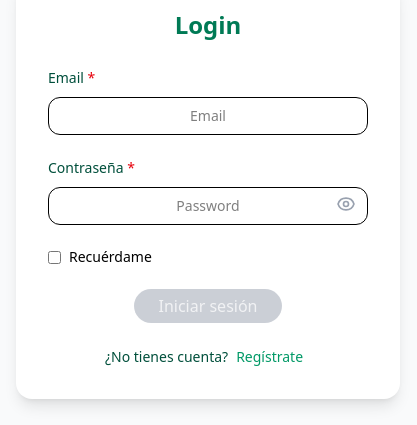
it: LoginPage with Redux › Form validation › enables submit button when both email and password are filled
The image size is (417, 425).
Type "test@example.com" into the field labelled "Email *" at (208, 116), box [48,97,368,135]
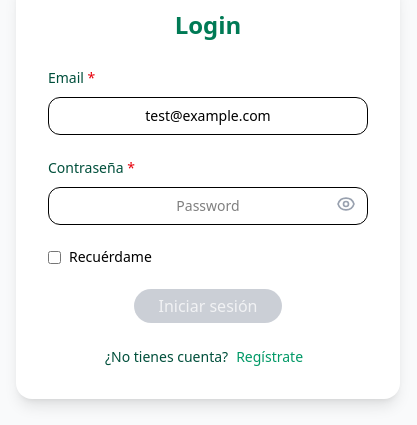
Type "password123" into the password field labelled "Contraseña *" at (208, 206), box [48,187,368,225]
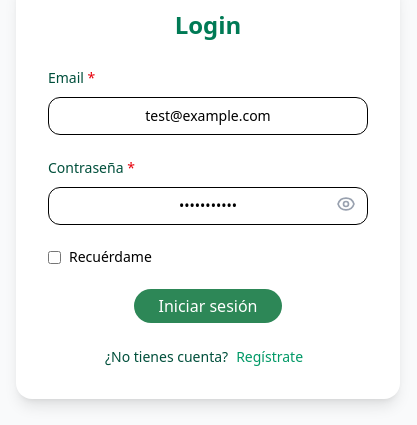
Check: the button "Iniciar sesión" is enabled, box [134,289,282,323]
